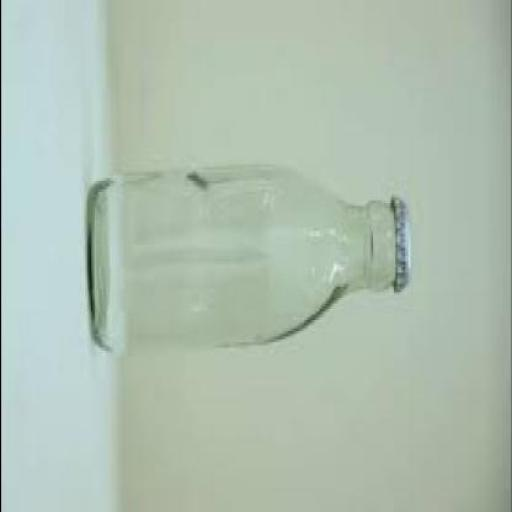glass: (90, 164, 394, 348)
metal: (394, 192, 411, 289)
